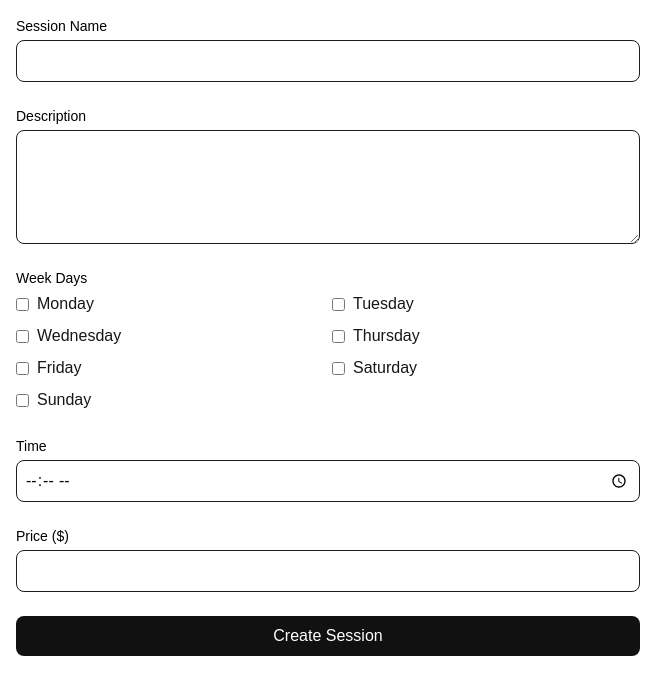
Test case: CreateSession component › submits the form and shows success
Step 1. Type "Cardio" into the field labelled "Session Name" → (328, 61), box 16,40 -> 640,82
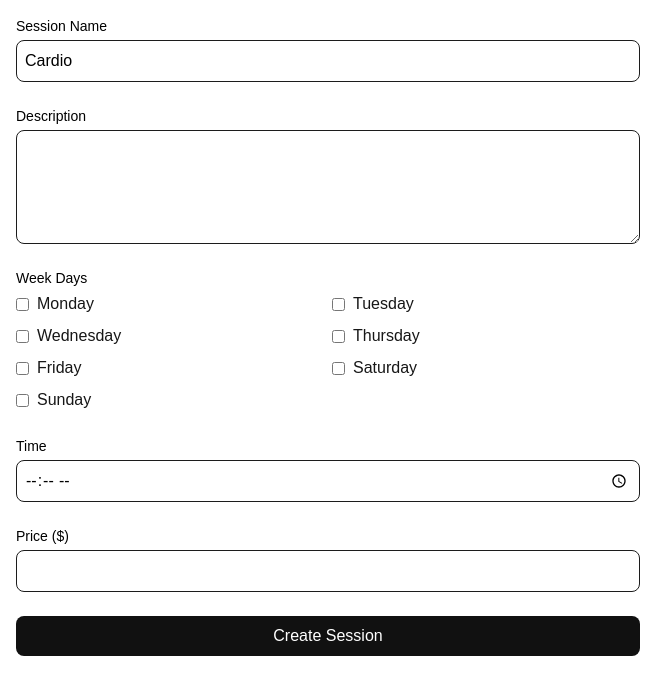
Step 2. Type "Burn fat" into the text box labelled "Description" → (328, 187), box 16,130 -> 640,244
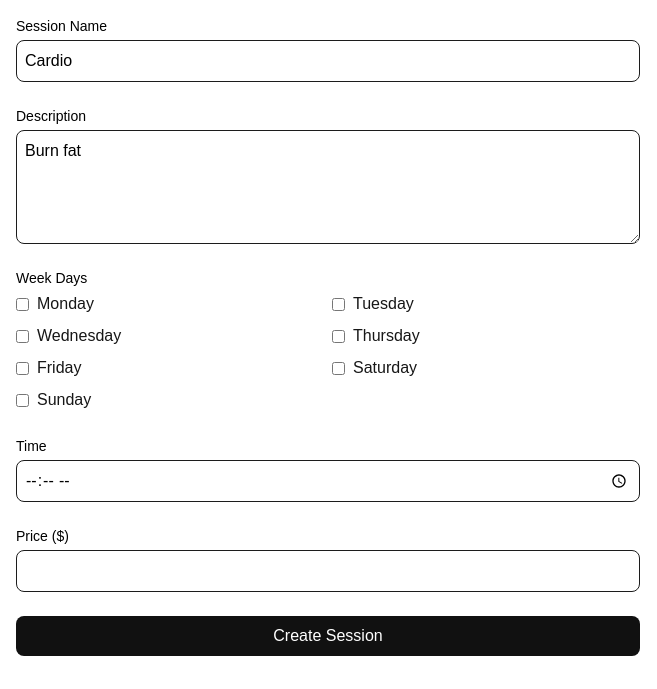
Step 3. Click the checkbox labelled "Monday" → (22, 304), box 16,298 -> 29,310
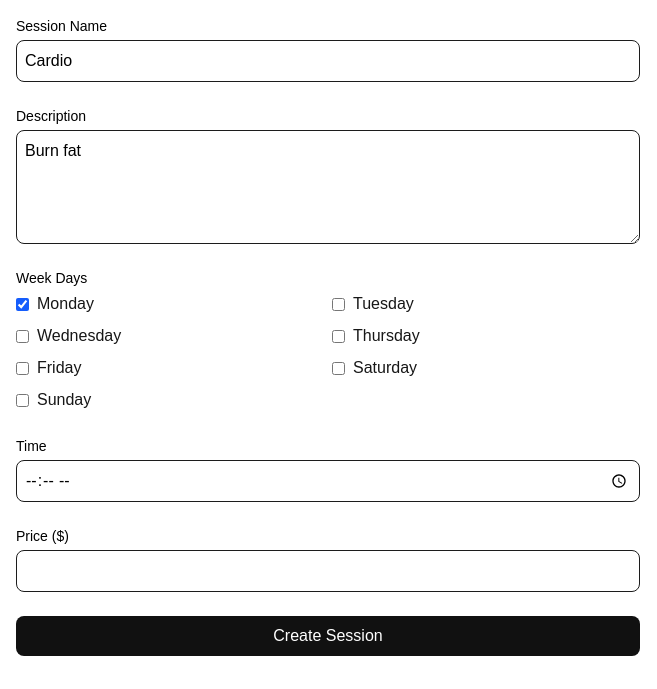
Step 4. Type "10:00" into the time field labelled "Time" → (328, 481), box 16,460 -> 640,502
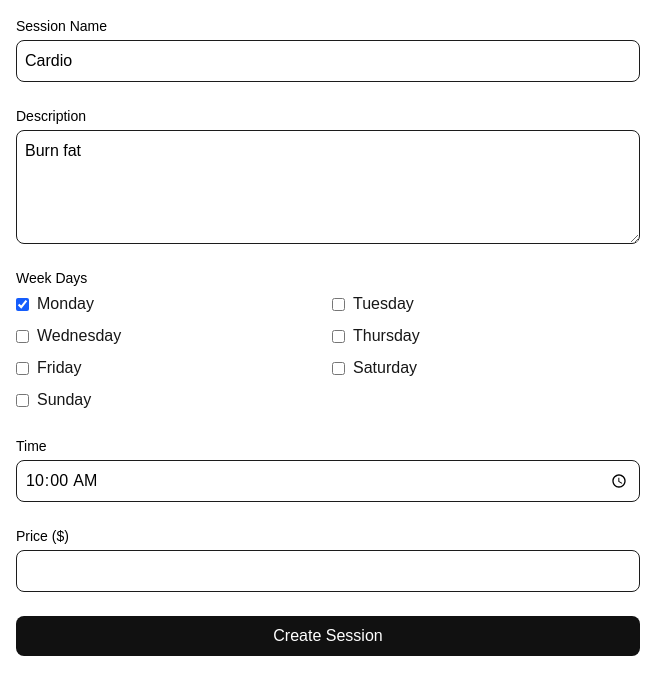
Step 5. Type "20" into the number field labelled "Price ($)" → (328, 571), box 16,550 -> 640,592
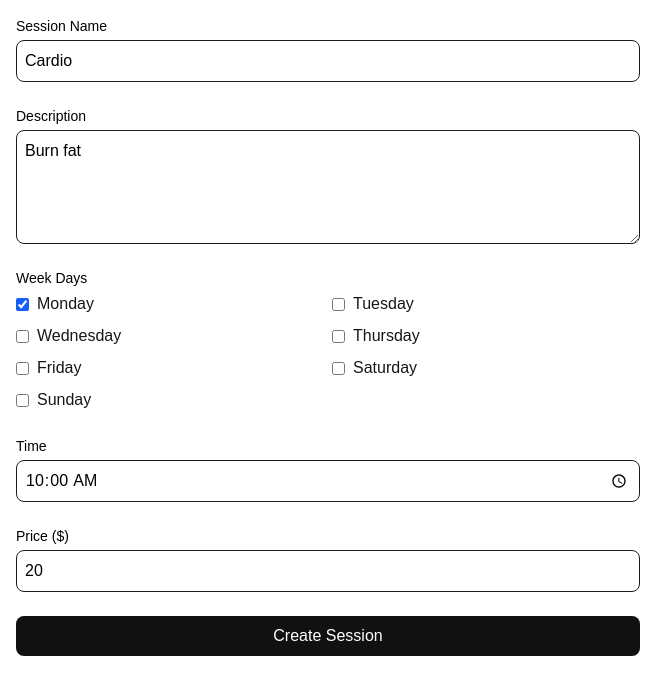
Step 6. Click the button "Create Session" → (328, 636), box 16,616 -> 640,656
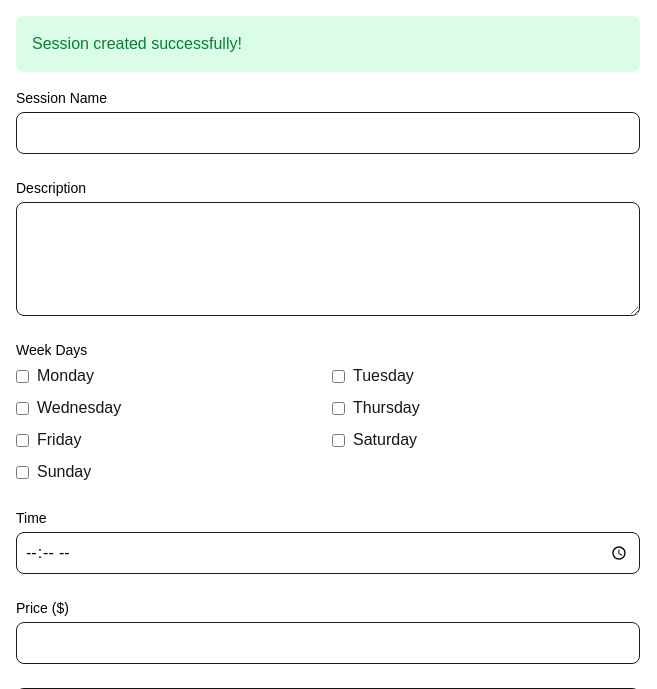
Result: the text "Session created successfully!" is shown at 16,16 -> 640,72
